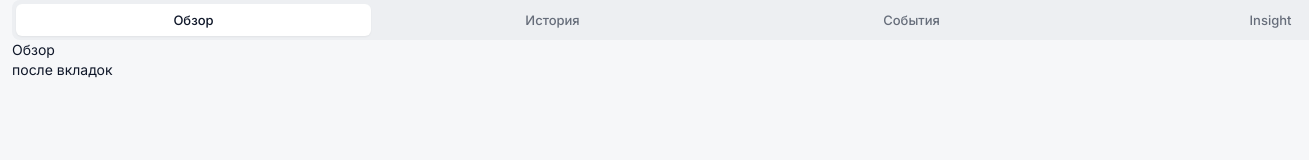
it: Tabs › ArrowLeft с вкладки «История» открывает «Обзор» и переносит на неё фокус
Click the button "История" at (552, 20), box 375,4 -> 730,36
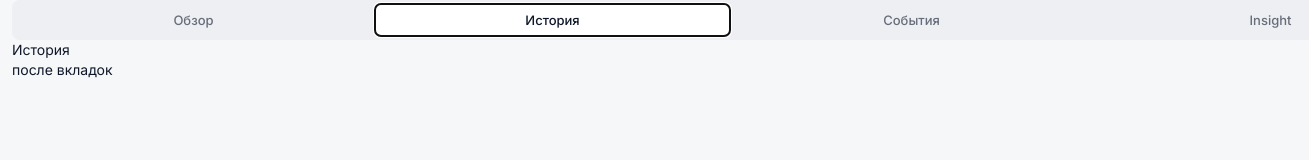
Press Arrowleft
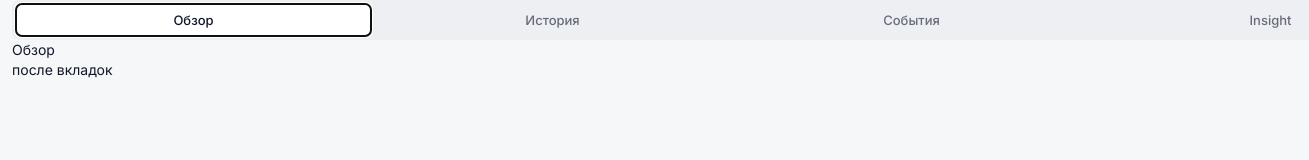
Expected: the text with test id "current" reads "Обзор", 12,41 -> 55,58
